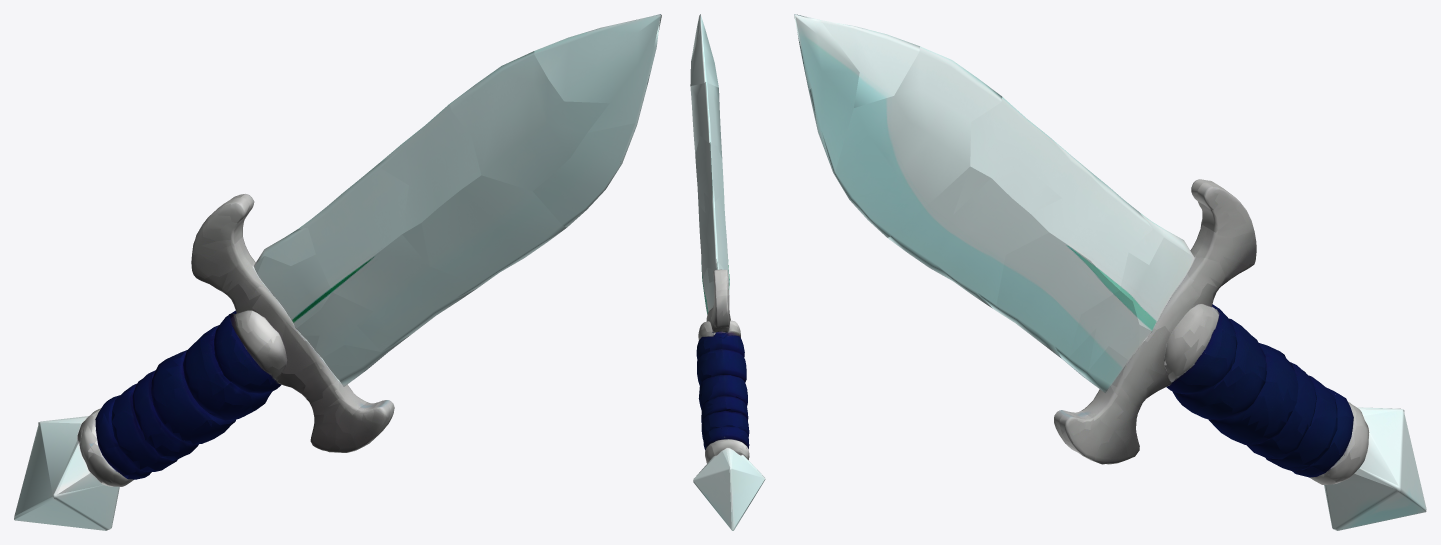
The model's file is Create-one-complete-stylized-sword-named-Rime-Fang.glb.
3 views of the same model, side by side, from view 1: azimuth 30°, elevation 25°; view 2: azimuth 150°, elevation 25°; view 3: azimuth 270°, elevation 25° (orthographic). The views are drawn at different scales.
Parts seen in each view (by area): view 1: Mesh::generatedModels/y3dw94VpiavtF9Y0wuqT.gltf; view 2: Mesh::generatedModels/y3dw94VpiavtF9Y0wuqT.gltf; view 3: Mesh::generatedModels/y3dw94VpiavtF9Y0wuqT.gltf.
Part boxes in pixels (box(x1,y1,x2,y2)): Mesh::generatedModels/y3dw94VpiavtF9Y0wuqT.gltf: box(14, 14, 661, 530); Mesh::generatedModels/y3dw94VpiavtF9Y0wuqT.gltf: box(690, 14, 765, 530); Mesh::generatedModels/y3dw94VpiavtF9Y0wuqT.gltf: box(794, 14, 1426, 530).
Bounding box in the file's own units: 0.5891 × 0.9805 × 0.8239.
Materials: 1 (1 with a texture image).
